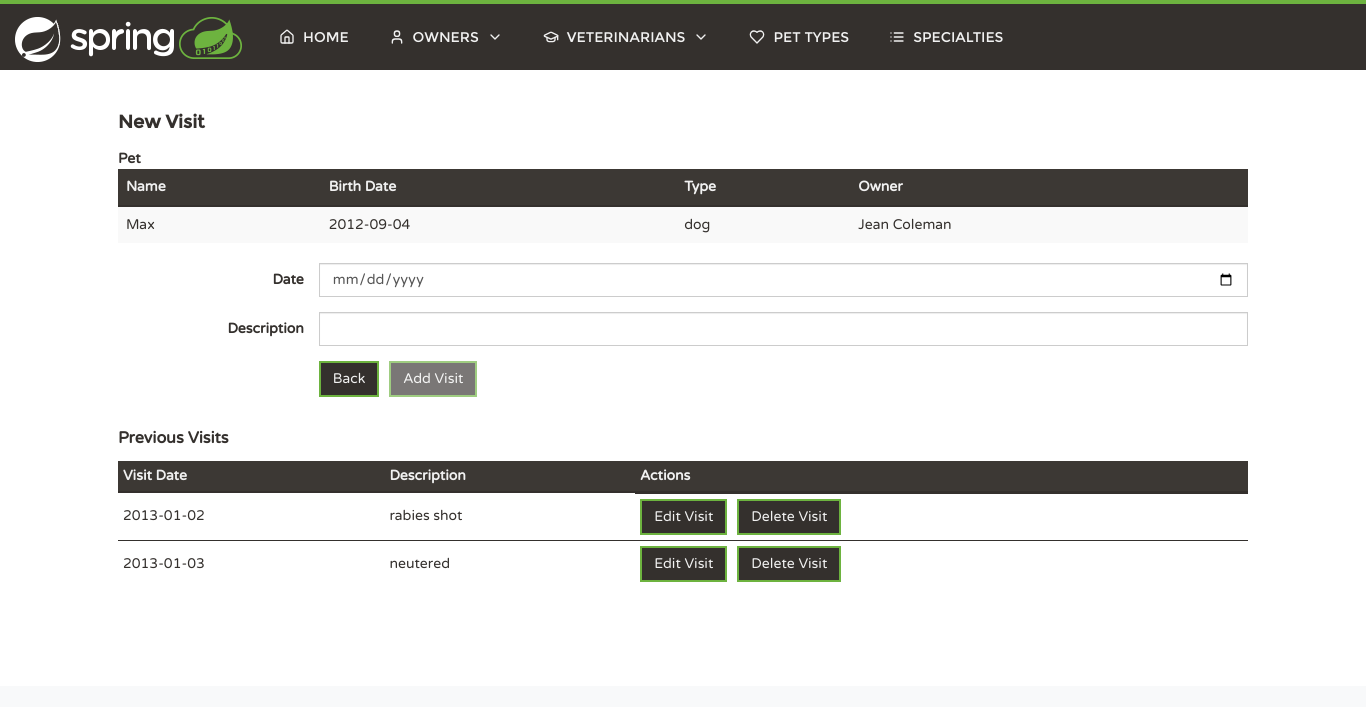
Test: VisitAddPage (pets/:id/visits/add) › surfaces a network error when the POST fails
The width and height of the screenshot is (1366, 707).
Expected: the text "Jean Coleman" is shown, [850,206,1248,243]
Type "2024-03-15" into the date field labelled "Date".
click(783, 280); type("2024-03-15")  # box [319,263,1248,297]
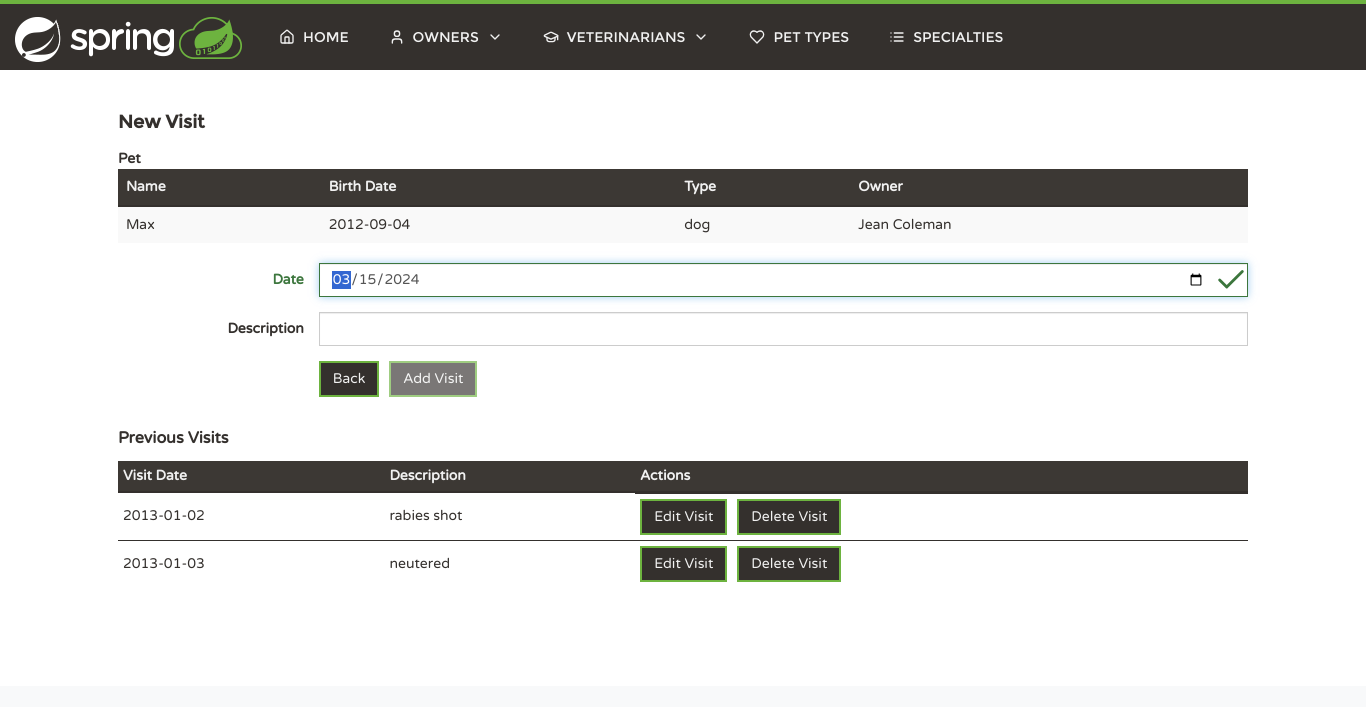
Type "checkup" into the field labelled "Description".
click(783, 329); type("checkup")  # box [319,312,1248,346]
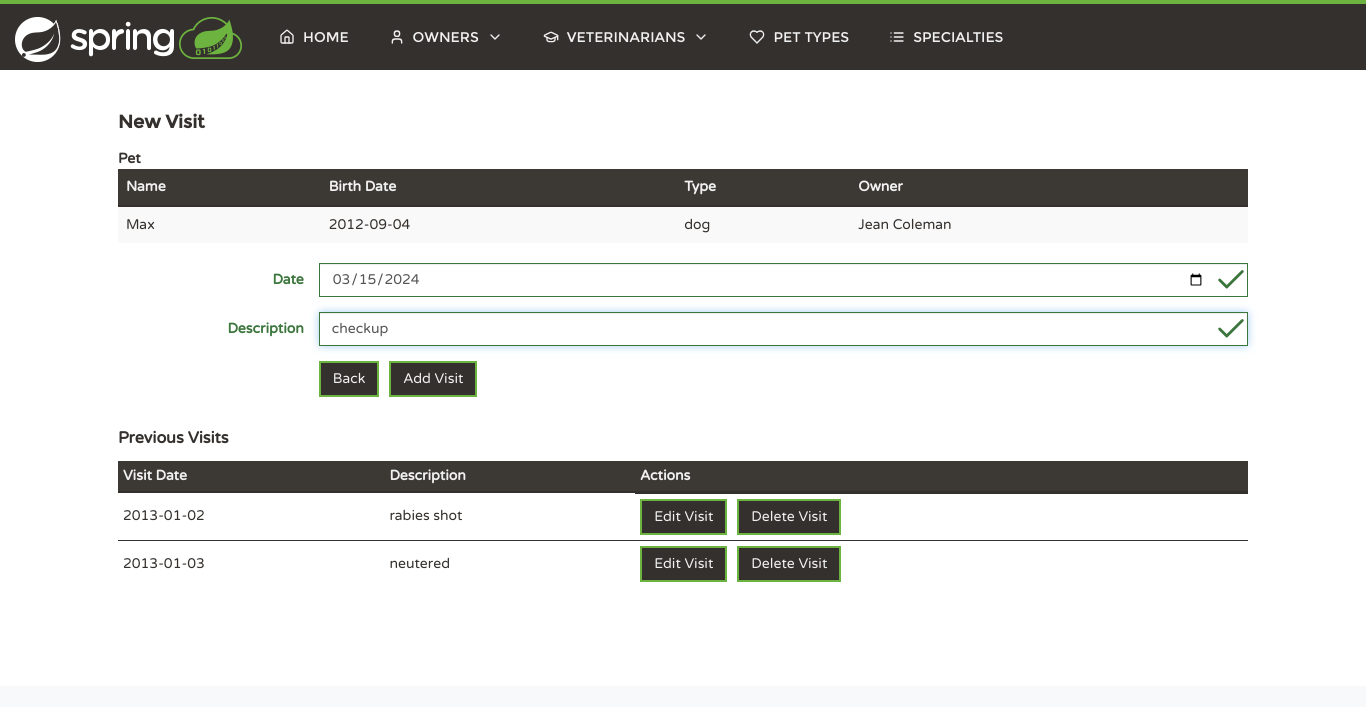
Click the button "Add Visit".
click(433, 379)  # box [389,361,477,397]
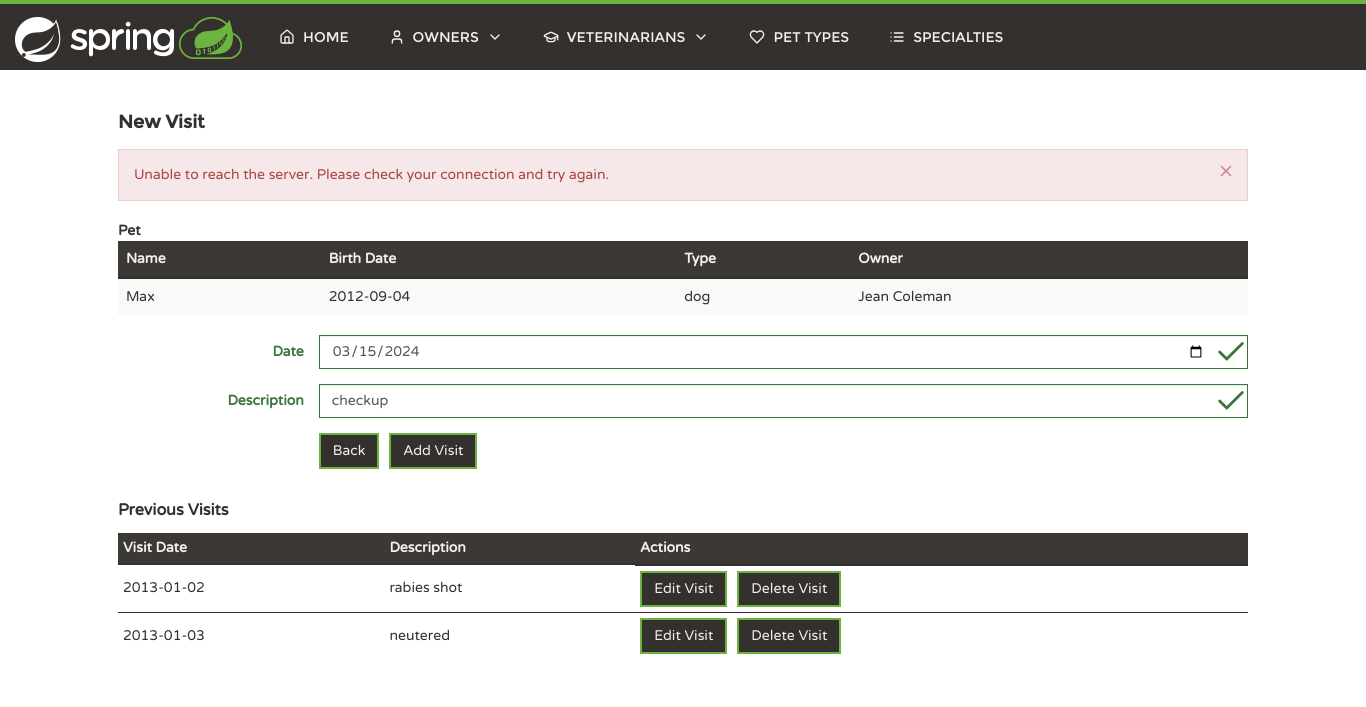
Expected: the message shows "Unable to reach the server", [134,167,609,183]
